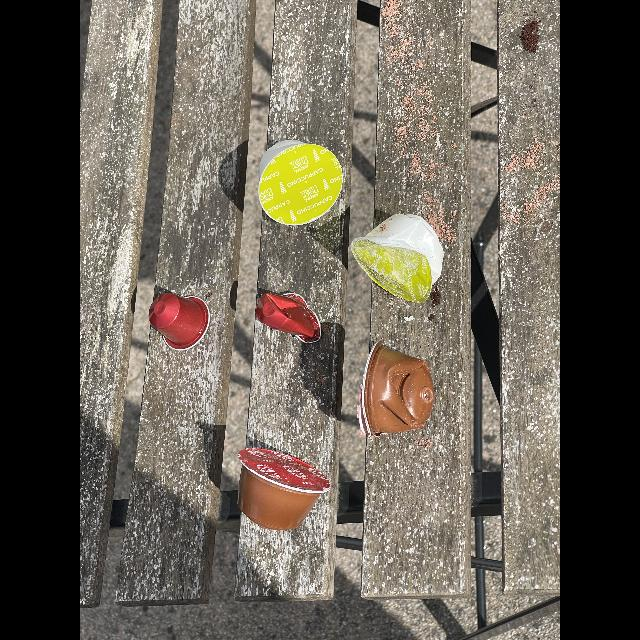damaged_capsule: (355, 336, 445, 440), (348, 230, 458, 306), (249, 286, 331, 350)
intact_capsule: (232, 440, 336, 534), (254, 134, 346, 230), (144, 288, 216, 352)
